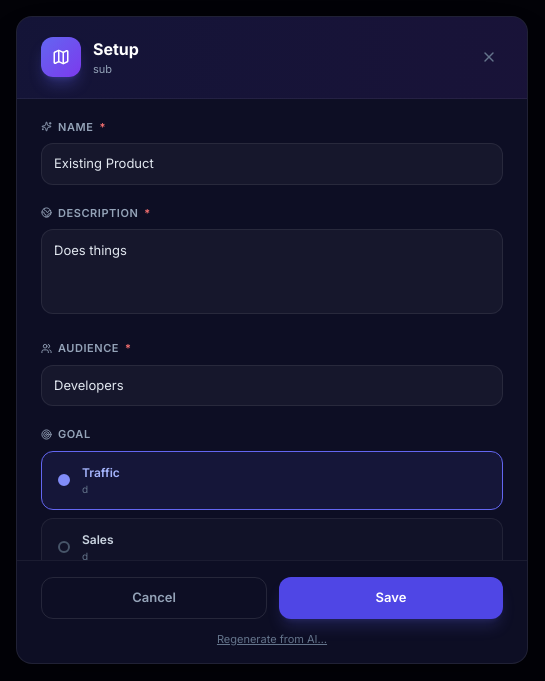
ProductSetupModal - Cloud Strategy editing (ADV-004-FIX-3 requirement A) › scenario 2 (part 2) - AI generation failure on a Cloud Strategy shows an error but NEVER falls back to the mock/template graph
This screenshot has width=545, height=681.
Click the button "Regenerate from AI…".
click(272, 639)  # box [217, 630, 327, 647]
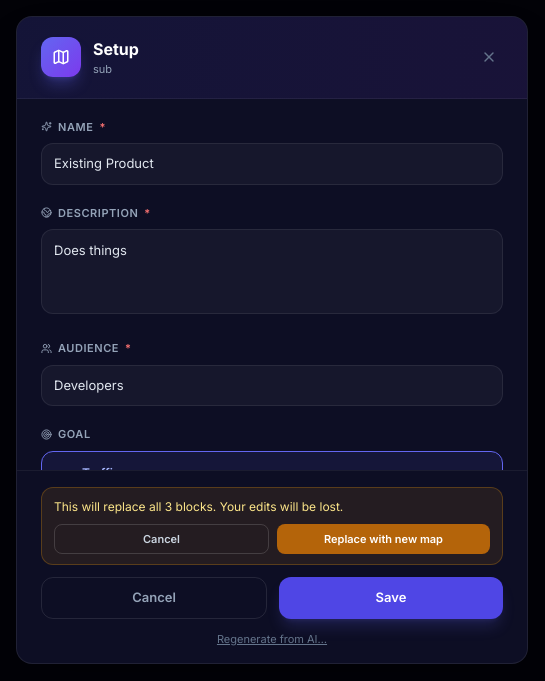
Click the button "Replace with new map".
click(384, 539)  # box [277, 524, 490, 554]
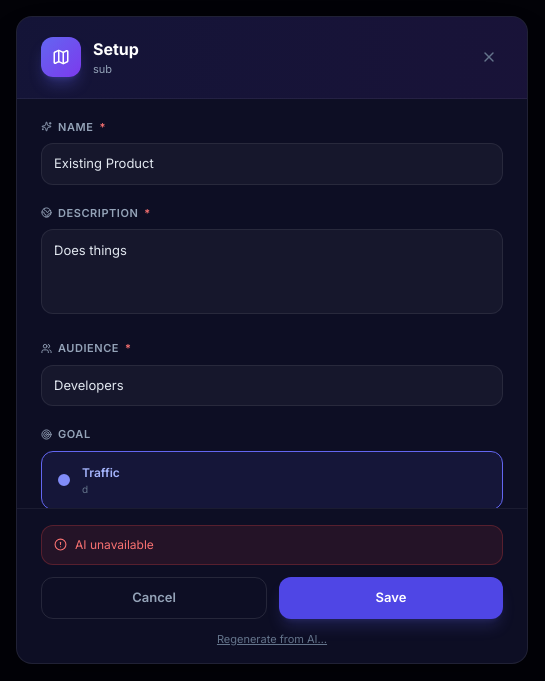
expect the text "AI unavailable" is shown: met, box [75, 536, 154, 554]
